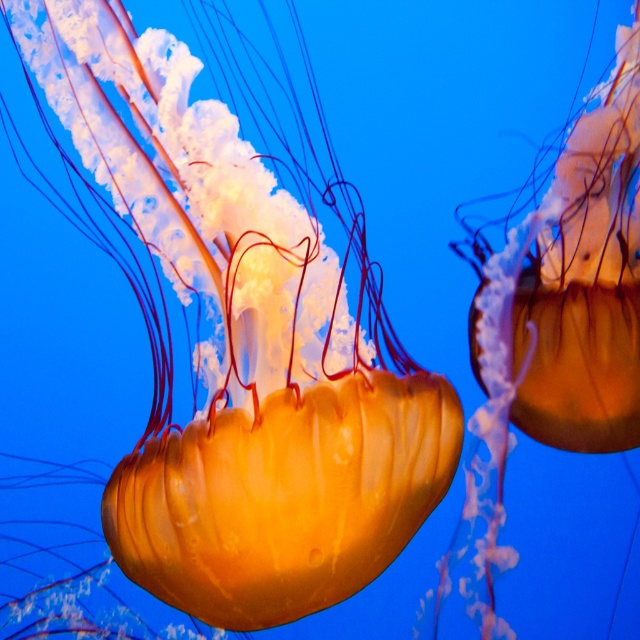Jellyfish: (0, 0, 465, 633), (427, 0, 639, 639), (450, 0, 639, 639)
